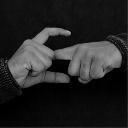hand: (7, 26, 71, 88), (53, 39, 122, 84)
